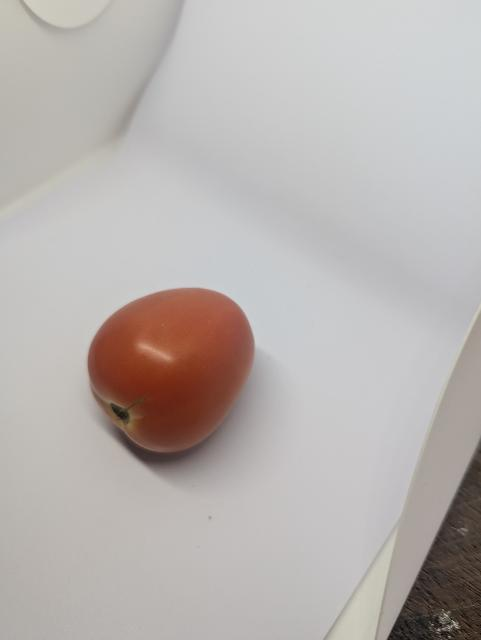red: (72, 270, 277, 471)
